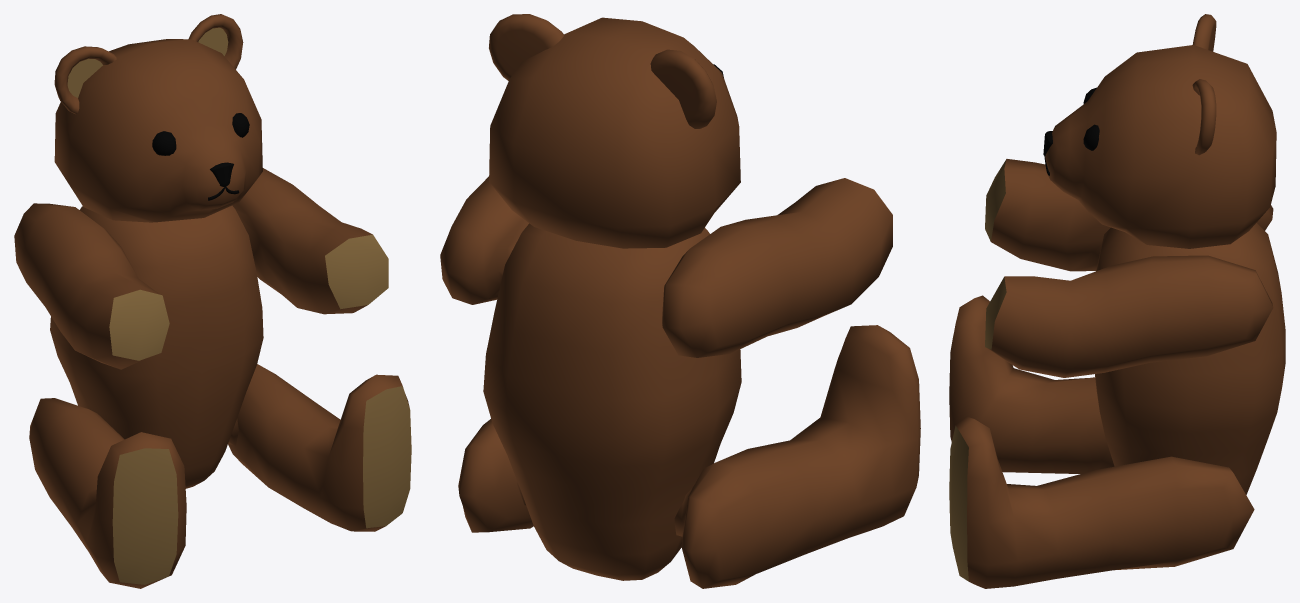
Rendered from Bear.glb.
3 renders of one model, left to right at view 1: azimuth 30°, elevation 25°; view 2: azimuth 150°, elevation 25°; view 3: azimuth 270°, elevation 25°, orthographic. The views are drawn at different scales.
Parts seen in each view (by area): view 1: SM_Bear; view 2: SM_Bear; view 3: SM_Bear.
Boxes of the visible parts, x1,y1,x2,y2 form: SM_Bear: [14, 14, 411, 588]; SM_Bear: [440, 14, 920, 588]; SM_Bear: [949, 14, 1285, 588].
Bounding box in the file's own units: 0.7086 × 0.9709 × 0.6221.
